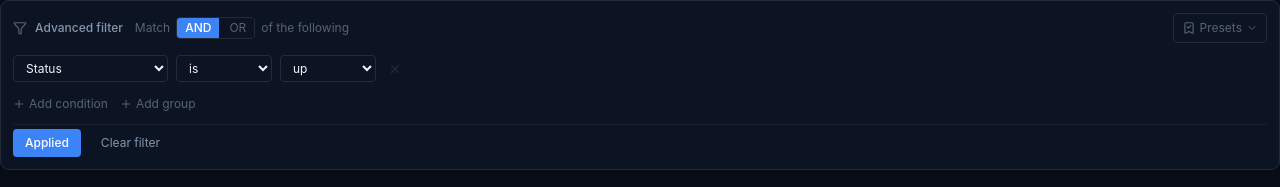
Test: FilterBuilder › shows 'Apply filter' label when the draft differs from the active value
Note: Modify the draft — change the value select
Step 1. Select "down" in the dropdown named "Filter value" → (328, 68), box x1=280 y1=55 x2=376 y2=82
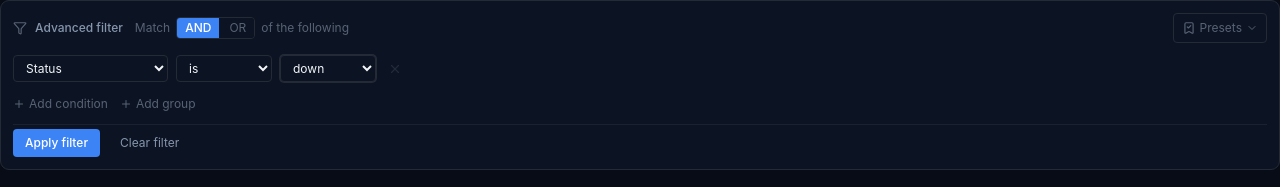
Result: the button "Apply filter" is shown at x1=13 y1=129 x2=100 y2=157
